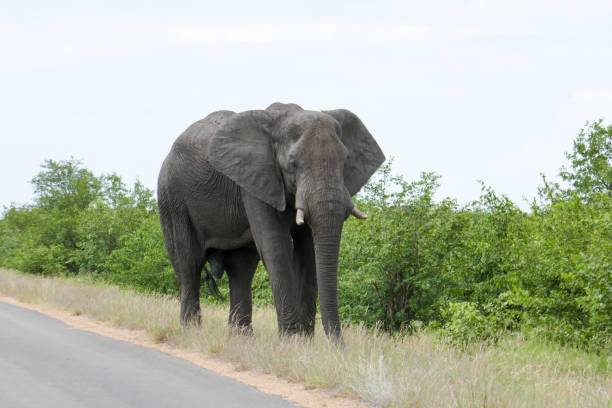africanelephant: (258, 115, 370, 247)
